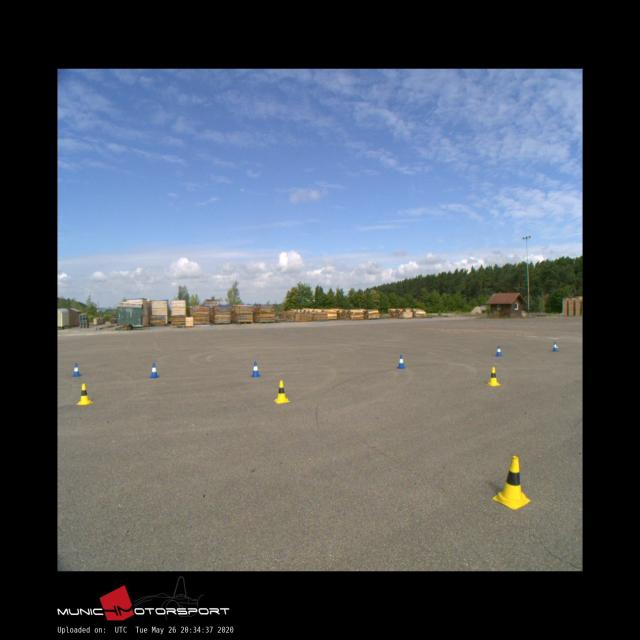blue_cone: (250, 361, 260, 376), (149, 363, 159, 377), (396, 354, 405, 368), (72, 363, 80, 376), (496, 346, 502, 356), (552, 341, 557, 352)
yellow_cone: (493, 456, 529, 508), (75, 384, 92, 403), (274, 380, 288, 402), (486, 367, 499, 386)
